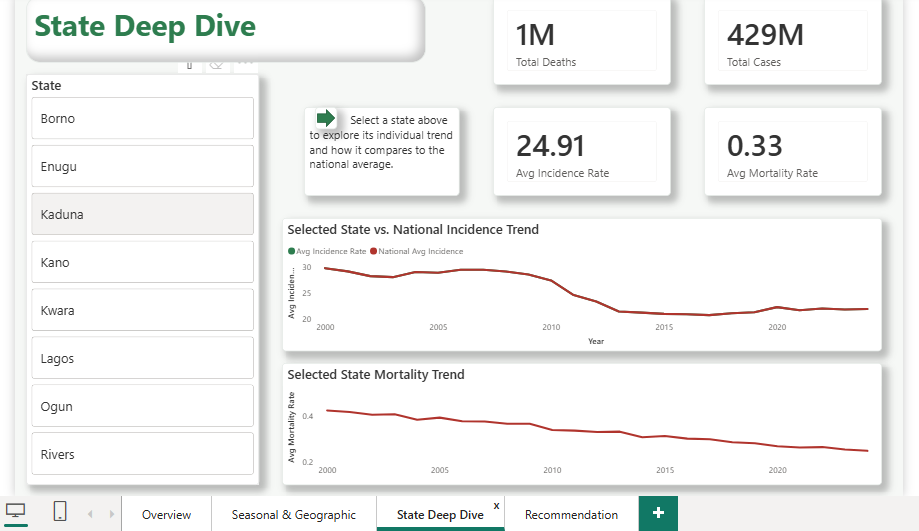

This screenshot's page, from the dashboard's own definition file:
{"tool":"powerbi","page":{"name":"State Deep Dive","canvas":[1280,720],"ordinal":2},"visuals":[{"type":"lineChart","title":"\tSelected State vs. National Incidence Trend","fields":{"Category":["malaria_project malaria_data.Year"],"Y":["malaria_project malaria_data.Avg Incidence Rate","malaria_project malaria_data.National Avg Incidence"]},"box":[384,320,864,192],"z":0},{"type":"lineChart","title":"\tSelected State Mortality Trend","fields":{"Y":["malaria_project malaria_data.Avg Mortality Rate"],"Category":["malaria_project malaria_data.Year"]},"box":[384,528,864,176],"z":1000},{"type":"cardVisual","fields":{"Data":["malaria_project malaria_data.Total Cases"]},"box":[992,0,256,128],"z":2000},{"type":"cardVisual","fields":{"Data":["malaria_project malaria_data.Total Deaths"]},"box":[688,0,256,128],"z":3000},{"type":"cardVisual","fields":{"Data":["malaria_project malaria_data.Avg Incidence Rate"]},"box":[688,160,256,128],"z":4000},{"type":"cardVisual","fields":{"Data":["malaria_project malaria_data.Avg Mortality Rate"]},"box":[992,160,256,128],"z":5000},{"type":"advancedSlicerVisual","fields":{"Values":["malaria_project malaria_data.State"]},"box":[16,112,336,592],"z":6000},{"type":"textbox","box":[16,0,576,96],"z":7000},{"type":"textbox","box":[416,160,224,128],"z":8000},{"type":"shape","box":[432,160,32,32],"z":9000}]}

Visuals, with their boxes on the page's 1280x720 design canvas (x1, y1, x2, y2). These are canvas units, not pixel positions in the 919x531 screenshot, which may show the page scaled, cropped or inside an application window:
"	Selected State vs. National Incidence Trend" lineChart: box(384, 320, 1248, 512)
"	Selected State Mortality Trend" lineChart: box(384, 528, 1248, 704)
cardVisual - malaria_project malaria_data.Total Cases: box(992, 0, 1248, 128)
cardVisual - malaria_project malaria_data.Total Deaths: box(688, 0, 944, 128)
cardVisual - malaria_project malaria_data.Avg Incidence Rate: box(688, 160, 944, 288)
cardVisual - malaria_project malaria_data.Avg Mortality Rate: box(992, 160, 1248, 288)
advancedSlicerVisual - malaria_project malaria_data.State: box(16, 112, 352, 704)
textbox: box(16, 0, 592, 96)
textbox: box(416, 160, 640, 288)
shape: box(432, 160, 464, 192)
